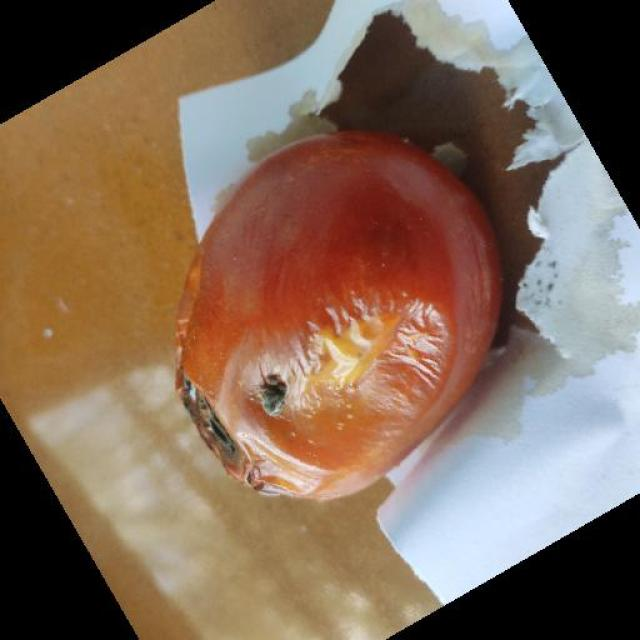Stale_tomato: (185, 116, 501, 520)
